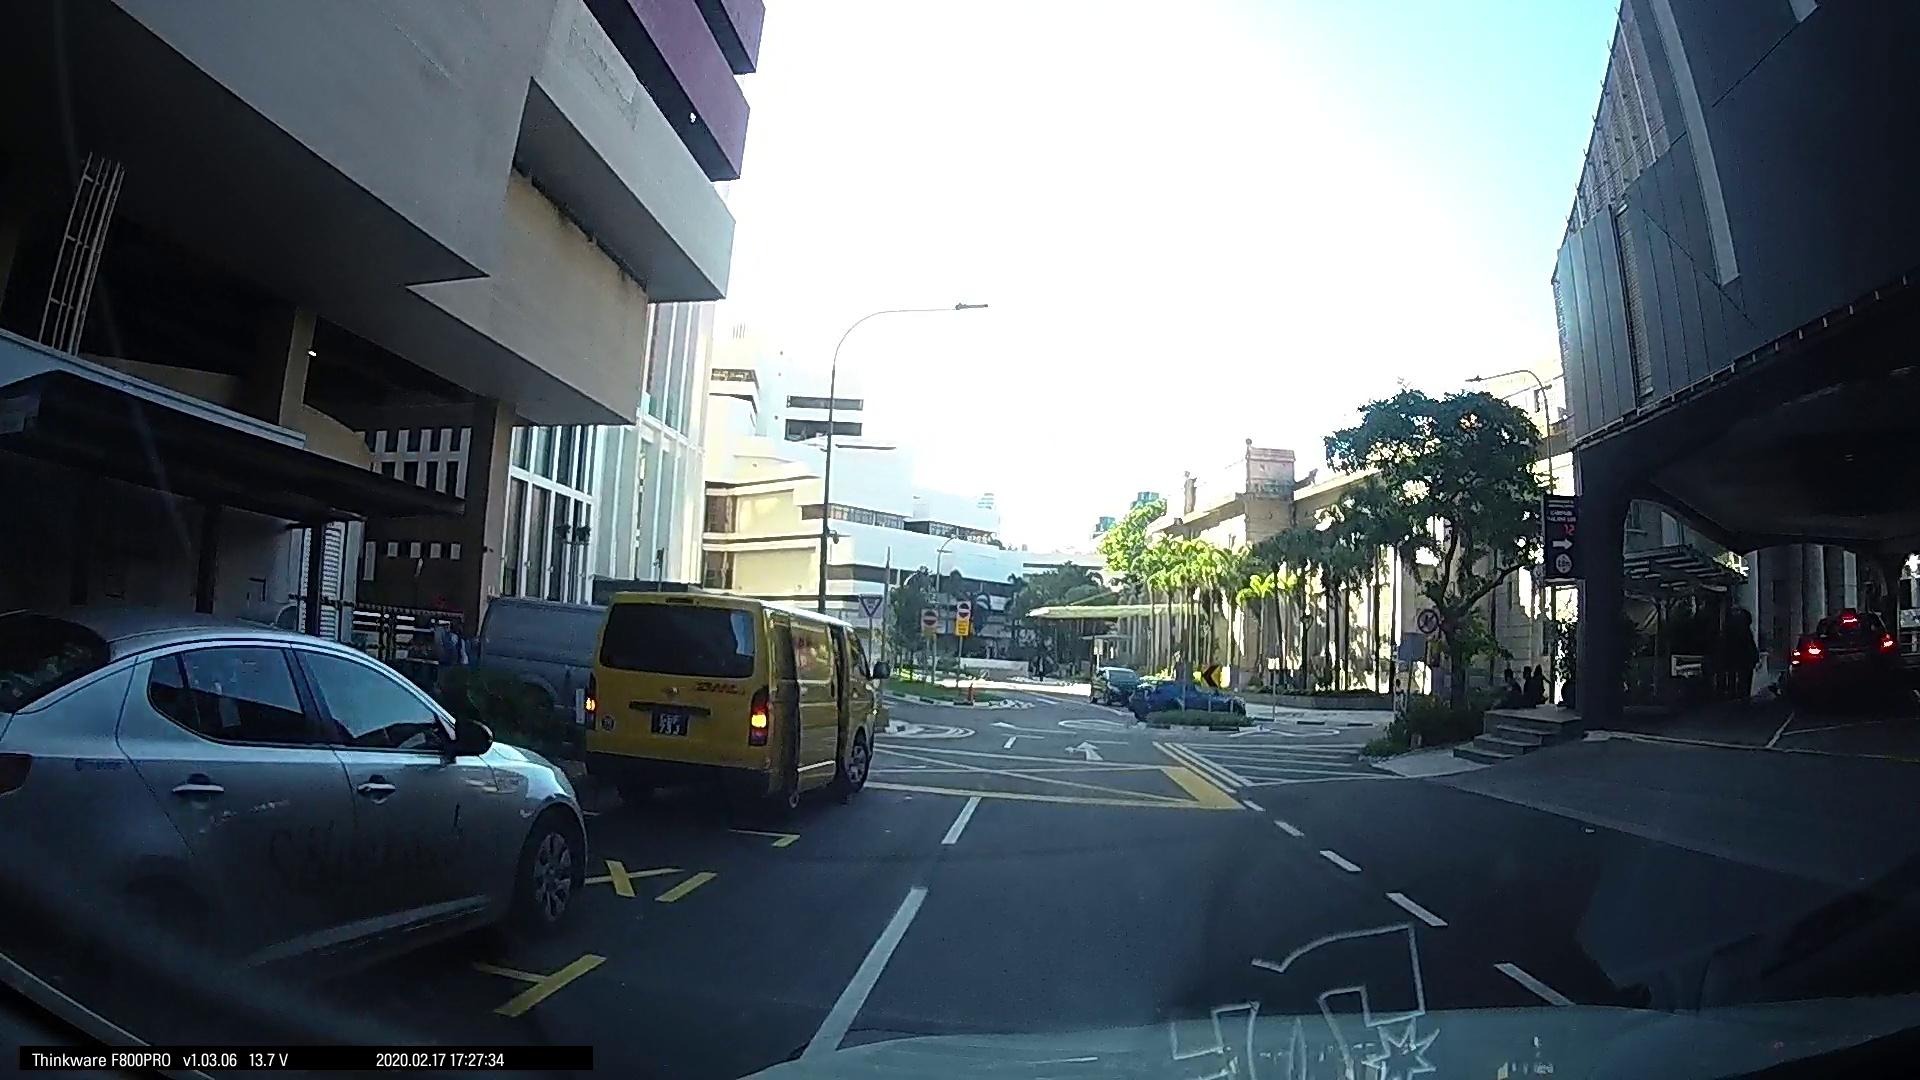Light Vehicle: (1, 618, 593, 1007), (570, 584, 873, 818), (1780, 592, 1905, 709), (1124, 667, 1251, 723)
